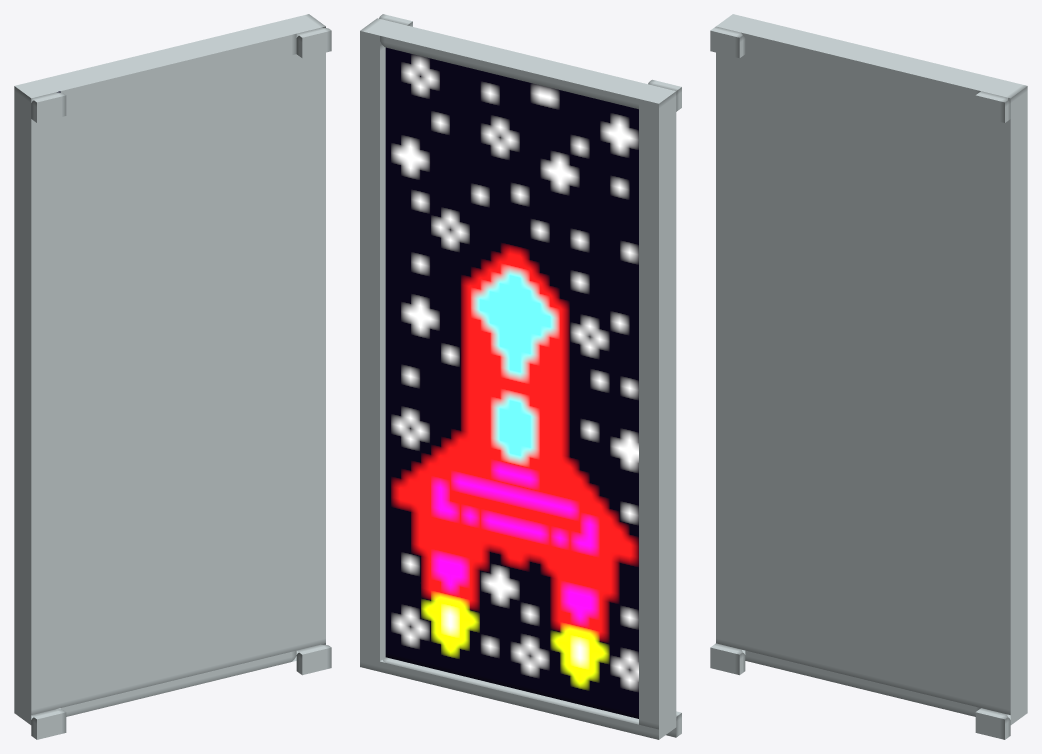
File: neon_rakieta.dae
3 renders of one model, left to right at view 1: azimuth 30°, elevation 25°; view 2: azimuth 150°, elevation 25°; view 3: azimuth 330°, elevation 25°, orthographic.
Parts seen in each view (by area): view 1: Content; view 2: Content; view 3: Content.
Boxes of the visible parts, box(x1,y1,x2,y2) form: Content: box(14, 14, 331, 739); Content: box(360, 14, 681, 739); Content: box(710, 14, 1027, 739).
Bounding box in the file's own units: 30 × 62 × 4.
1 material, 1 textured.
